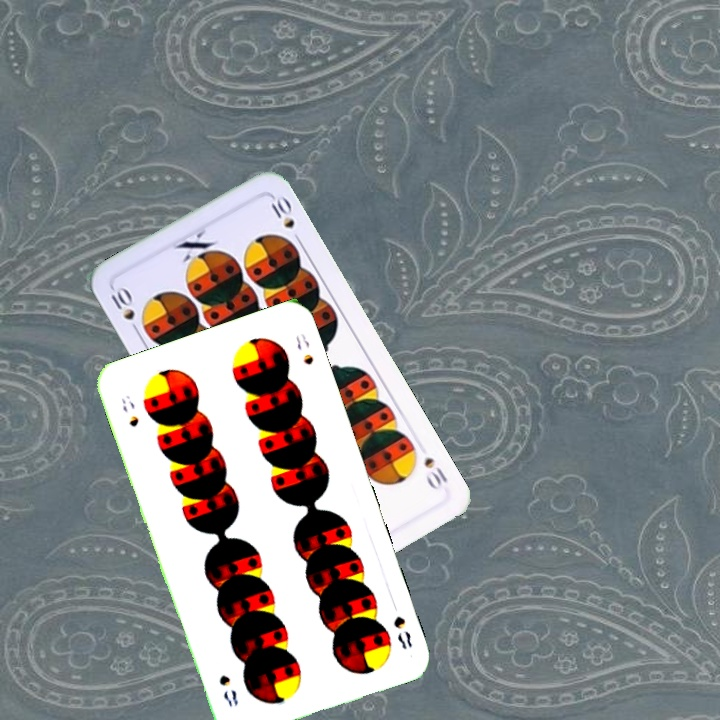S10: (107, 282, 143, 338), (420, 453, 450, 493)
S8: (389, 612, 415, 652), (117, 391, 142, 430)
